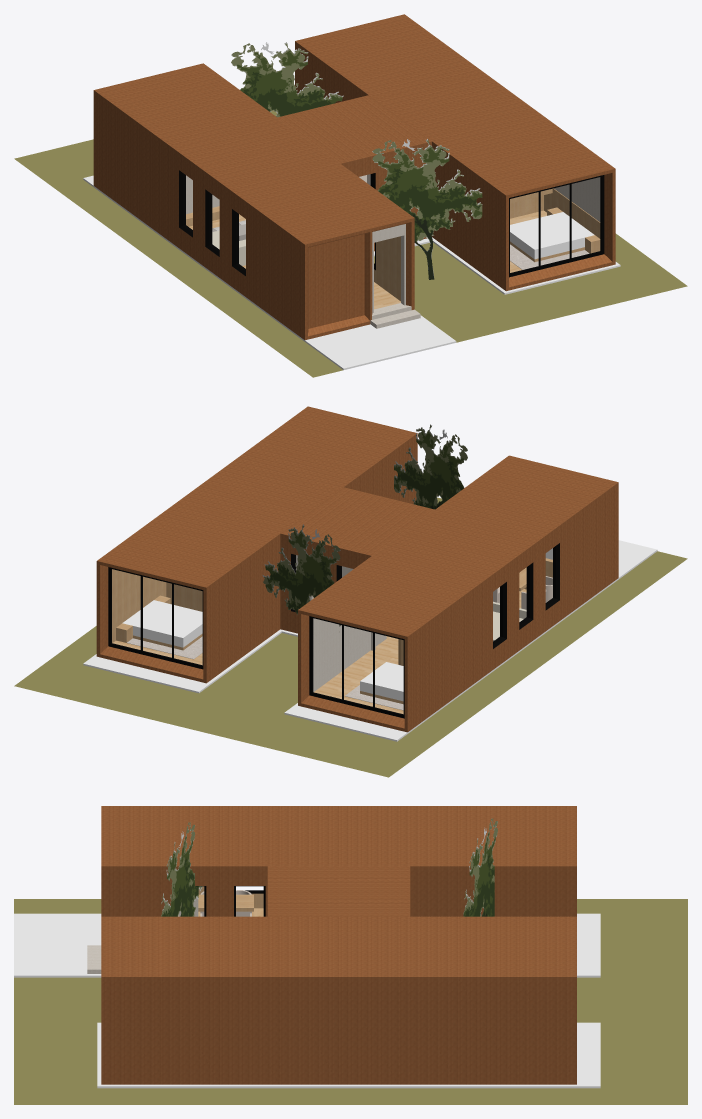
Rendered from 自建住宅100㎡住3~4人（自然风-渲染-贴图）.obj.
3 views of the same model, one above another, from view 1: azimuth 30°, elevation 25°; view 2: azimuth 150°, elevation 25°; view 3: azimuth 270°, elevation 25° (orthographic). The views are drawn at different scales.
Parts seen in each view (by area): view 1: Mesh105 Group117 Group1 Model, Mesh83 Group93 Group1 Model, Mesh71 Group78 Group77 Group1 Model, Mesh107 Component_85_1 Component_86_1 G_2D_TREE1 Group1 Model, Mesh85 Group95 Group1 Model, Mesh97 Group109 Group1 Model, Mesh98 Group110 Group1 Model, Mesh36 Group40 Group29 Group2 Group1 Model, Mesh89 Group100 Group99 Group1 Model, Mesh103 Group115 Group1 Model, Mesh87 Group97 Group1 Model, Mesh82 Group92 Group1 Model (+16 smaller); view 2: Mesh105 Group117 Group1 Model, Mesh89 Group100 Group99 Group1 Model, Mesh75 Group84 Group83 Group1 Model, Mesh103 Group115 Group1 Model, Mesh98 Group110 Group1 Model, Mesh104 Group116 Group1 Model, Mesh85 Group95 Group1 Model, Mesh83 Group93 Group1 Model, Mesh79 Group89 Group1 Model, Mesh81 Group91 Group1 Model, Mesh82 Group92 Group1 Model, Mesh80 Group90 Group1 Model (+16 smaller); view 3: Mesh105 Group117 Group1 Model, Mesh97 Group109 Group1 Model, Mesh71 Group78 Group77 Group1 Model, Mesh84 Group94 Group1 Model, Mesh88 Group98 Group1 Model, Mesh104 Group116 Group1 Model, Mesh75 Group84 Group83 Group1 Model, Mesh79 Group89 Group1 Model, Mesh86 Group96 Group1 Model, Mesh87 Group97 Group1 Model, Mesh83 Group93 Group1 Model, Mesh89 Group100 Group99 Group1 Model (+10 smaller).
Boxes of the visible parts, box(x1,y1,x2,y2) form: Mesh105 Group117 Group1 Model: box(14, 110, 687, 377); Mesh83 Group93 Group1 Model: box(278, 198, 414, 340); Mesh71 Group78 Group77 Group1 Model: box(479, 149, 615, 291); Mesh107 Component_85_1 Component_86_1 G_2D_TREE1 Group1 Model: box(372, 139, 482, 279); Mesh85 Group95 Group1 Model: box(252, 179, 387, 320); Mesh97 Group109 Group1 Model: box(83, 175, 620, 370); Mesh98 Group110 Group1 Model: box(146, 102, 281, 243); Mesh36 Group40 Group29 Group2 Group1 Model: box(308, 224, 405, 328); Mesh89 Group100 Group99 Group1 Model: box(93, 63, 229, 204); Mesh103 Group115 Group1 Model: box(120, 82, 255, 224); Mesh87 Group97 Group1 Model: box(453, 130, 588, 271); Mesh82 Group92 Group1 Model: box(199, 140, 334, 281); Mesh105 Group117 Group1 Model: box(14, 497, 687, 777); Mesh89 Group100 Group99 Group1 Model: box(298, 591, 433, 732); Mesh75 Group84 Group83 Group1 Model: box(96, 541, 232, 683); Mesh103 Group115 Group1 Model: box(324, 571, 460, 712); Mesh98 Group110 Group1 Model: box(351, 552, 486, 693); Mesh104 Group116 Group1 Model: box(123, 522, 259, 663); Mesh85 Group95 Group1 Model: box(456, 475, 592, 616); Mesh83 Group93 Group1 Model: box(483, 455, 618, 596); Mesh79 Group89 Group1 Model: box(150, 503, 285, 644); Mesh81 Group91 Group1 Model: box(377, 533, 513, 673); Mesh82 Group92 Group1 Model: box(404, 513, 539, 654); Mesh80 Group90 Group1 Model: box(430, 494, 565, 635); Mesh105 Group117 Group1 Model: box(14, 899, 687, 1104); Mesh97 Group109 Group1 Model: box(14, 913, 600, 1088); Mesh71 Group78 Group77 Group1 Model: box(101, 916, 160, 1084); Mesh84 Group94 Group1 Model: box(339, 916, 398, 1084); Mesh88 Group98 Group1 Model: box(220, 916, 279, 1084); Mesh104 Group116 Group1 Model: box(458, 916, 517, 1084); Mesh75 Group84 Group83 Group1 Model: box(517, 916, 576, 1084); Mesh79 Group89 Group1 Model: box(398, 916, 457, 1084); Mesh86 Group96 Group1 Model: box(279, 916, 338, 1084); Mesh87 Group97 Group1 Model: box(160, 916, 219, 1084); Mesh83 Group93 Group1 Model: box(101, 806, 160, 916); Mesh89 Group100 Group99 Group1 Model: box(517, 806, 576, 916).
Bounding box in the file's own units: 12300 × 4497 × 17000.
18 materials, 9 textured.
